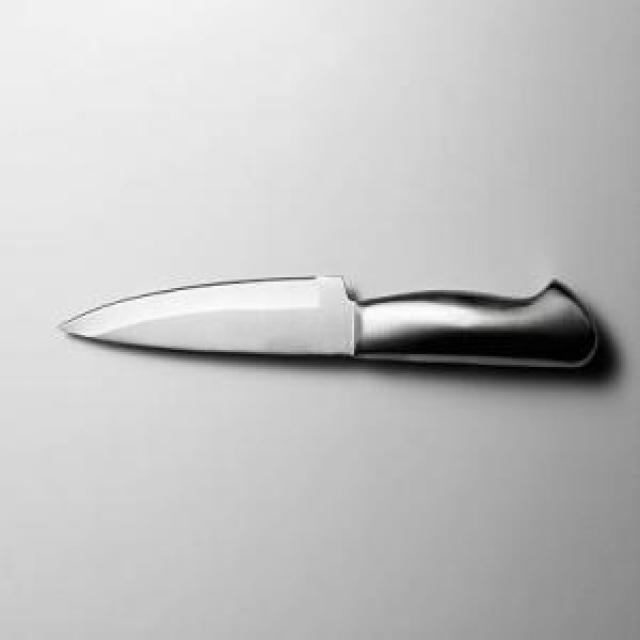knife: (55, 269, 600, 369)
